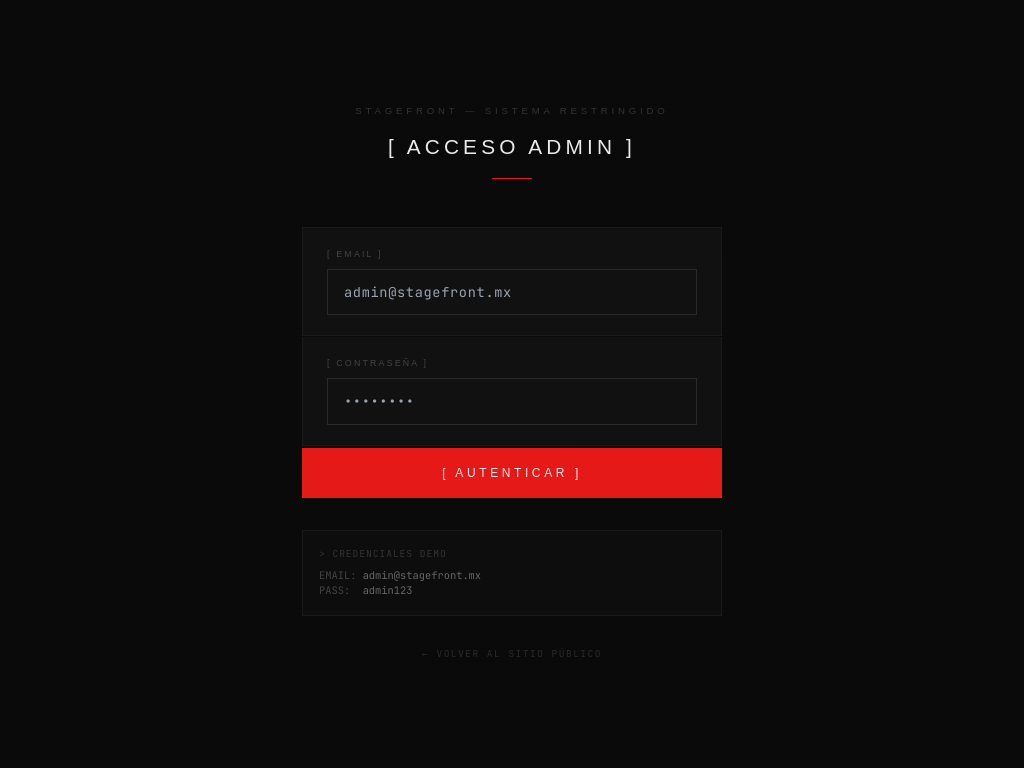
Test: Admin authentication › rejects invalid credentials with an error message
The image size is (1024, 768).
Type "wrong@stagefront.mx" into the field with placeholder "admin@stagefront.mx".
click(512, 292); type("wrong@stagefront.mx")  # box [327,269,697,315]
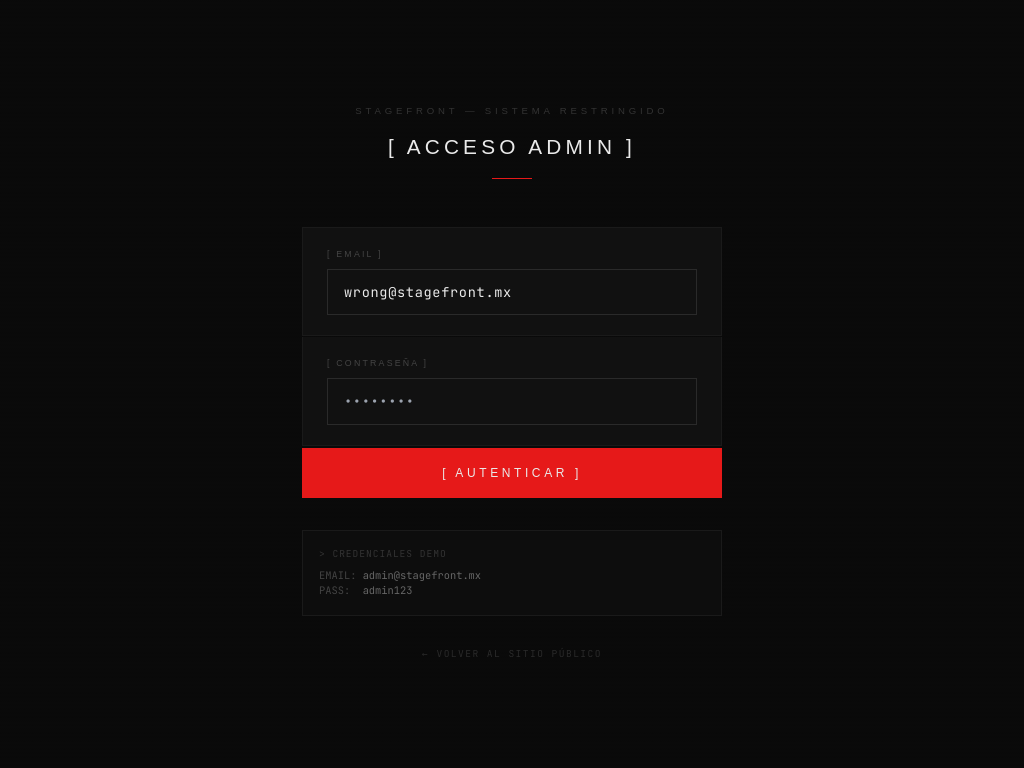
Type "badpass" into the password field with placeholder "••••••••".
click(512, 402); type("badpass")  # box [327,379,697,425]
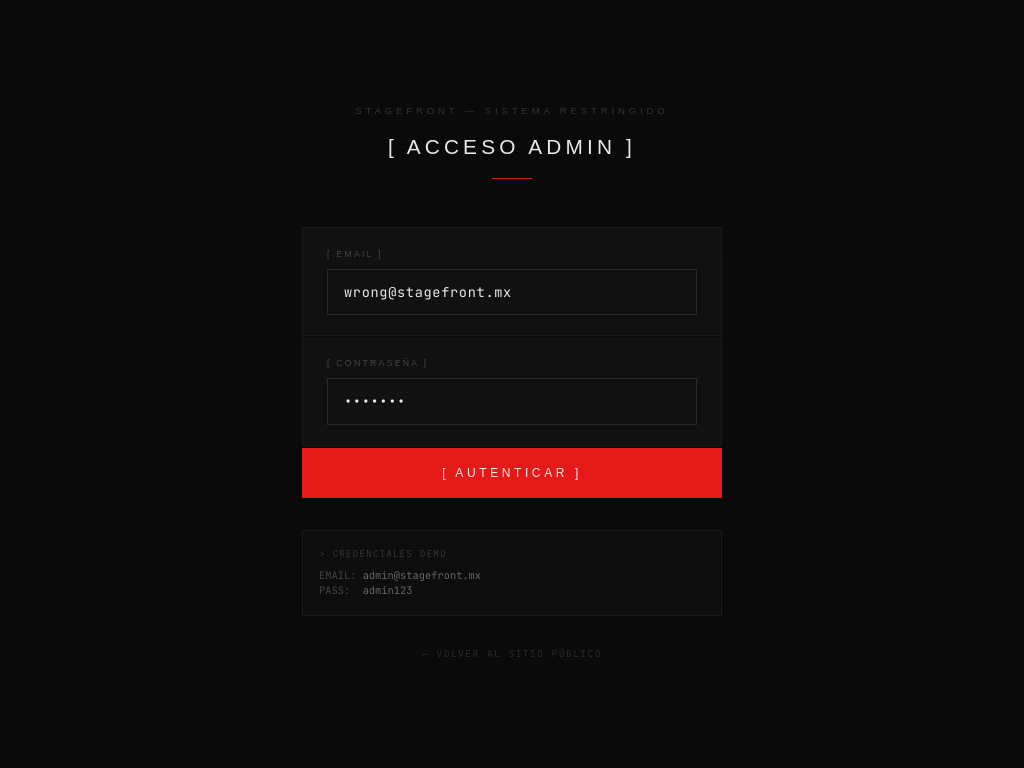
Click the button "[ AUTENTICAR ]".
click(512, 473)  # box [302,448,722,498]
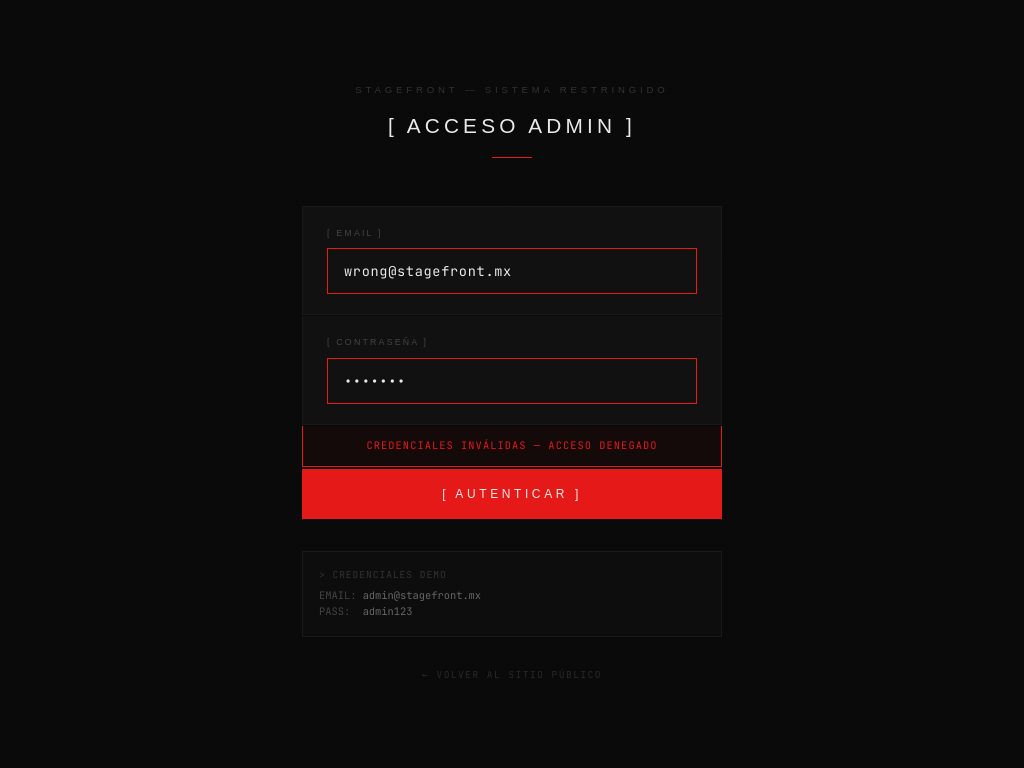
Expected: the text "CREDENCIALES INVÁLIDAS — ACCESO DENEGADO" is shown, [302,426,722,467]
